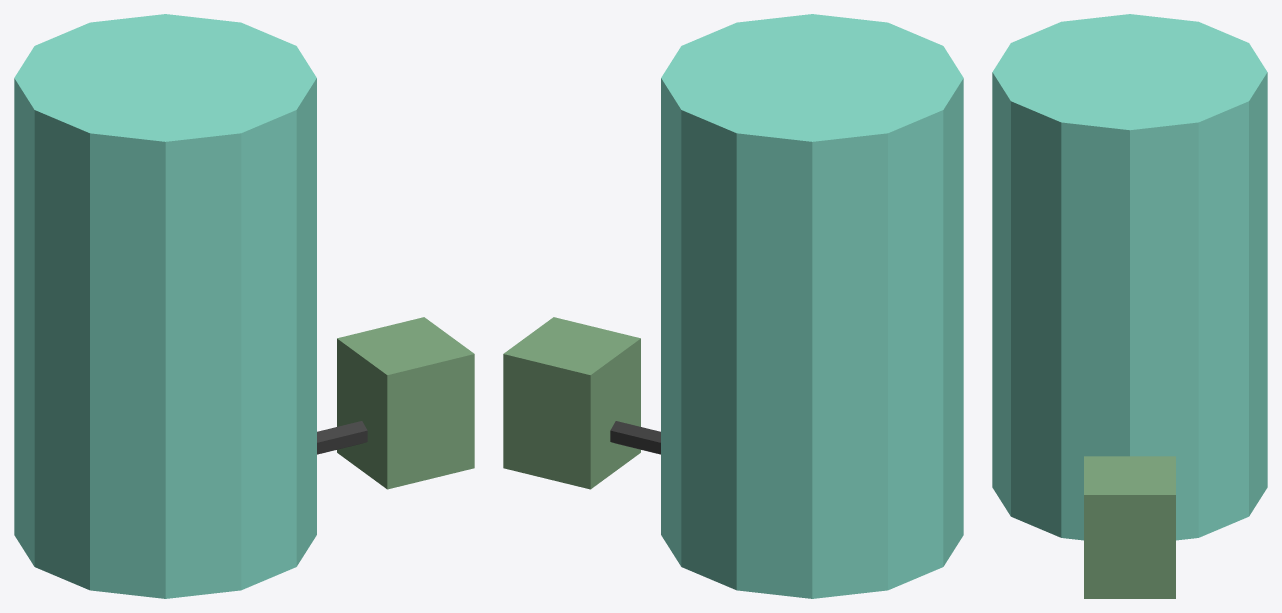
The picture shows the model from 3 angles, left to right: view 1: azimuth 30°, elevation 25°; view 2: azimuth 150°, elevation 25°; view 3: azimuth 270°, elevation 25°; orthographic projection. The views are drawn at different scales.
Parts seen in each view (by area): view 1: Water tank, Pump, Outlet; view 2: Water tank, Pump, Outlet; view 3: Water tank, Pump.
Boxes of the visible parts, bbox=[...] form: Water tank: bbox=[14, 14, 316, 598]; Pump: bbox=[337, 317, 474, 489]; Outlet: bbox=[317, 421, 367, 454]; Water tank: bbox=[661, 14, 963, 598]; Pump: bbox=[503, 317, 640, 489]; Outlet: bbox=[610, 421, 660, 454]; Water tank: bbox=[992, 14, 1267, 540]; Pump: bbox=[1084, 456, 1175, 598].
Size of the model in its own units: 95 by 100 by 60.
